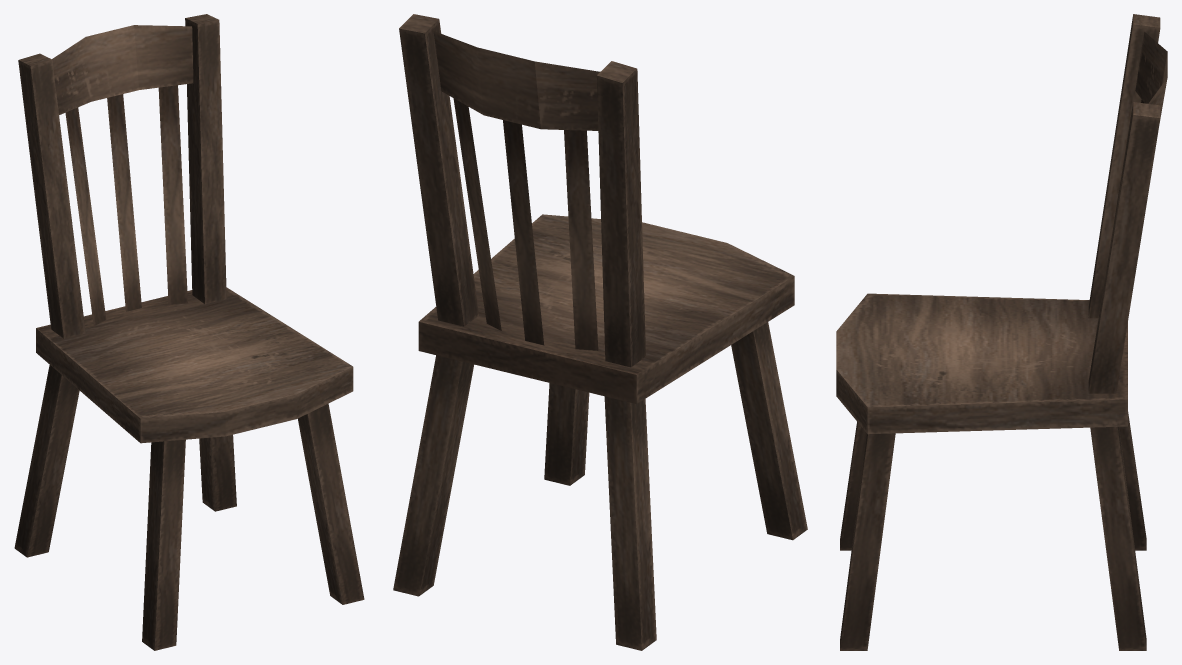
The model's file is Chair_2.fbx.
3 renders of one model, left to right at view 1: azimuth 30°, elevation 25°; view 2: azimuth 150°, elevation 25°; view 3: azimuth 270°, elevation 25°, orthographic. The views are drawn at different scales.
Parts seen in each view (by area): view 1: Chair_2; view 2: Chair_2; view 3: Chair_2.
Boxes of the visible parts, x1=… form: Chair_2: x1=14, y1=14, x2=364, y2=650; Chair_2: x1=393, y1=14, x2=807, y2=650; Chair_2: x1=836, y1=14, x2=1167, y2=650.
Bounding box in the file's own units: 52.05 × 113 × 64.1.
